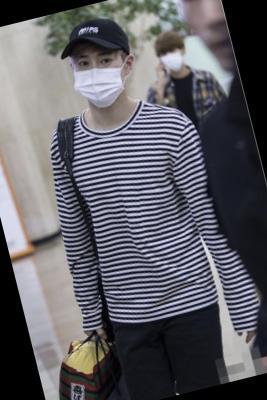with_mask: (70, 44, 134, 113), (159, 46, 186, 77)
